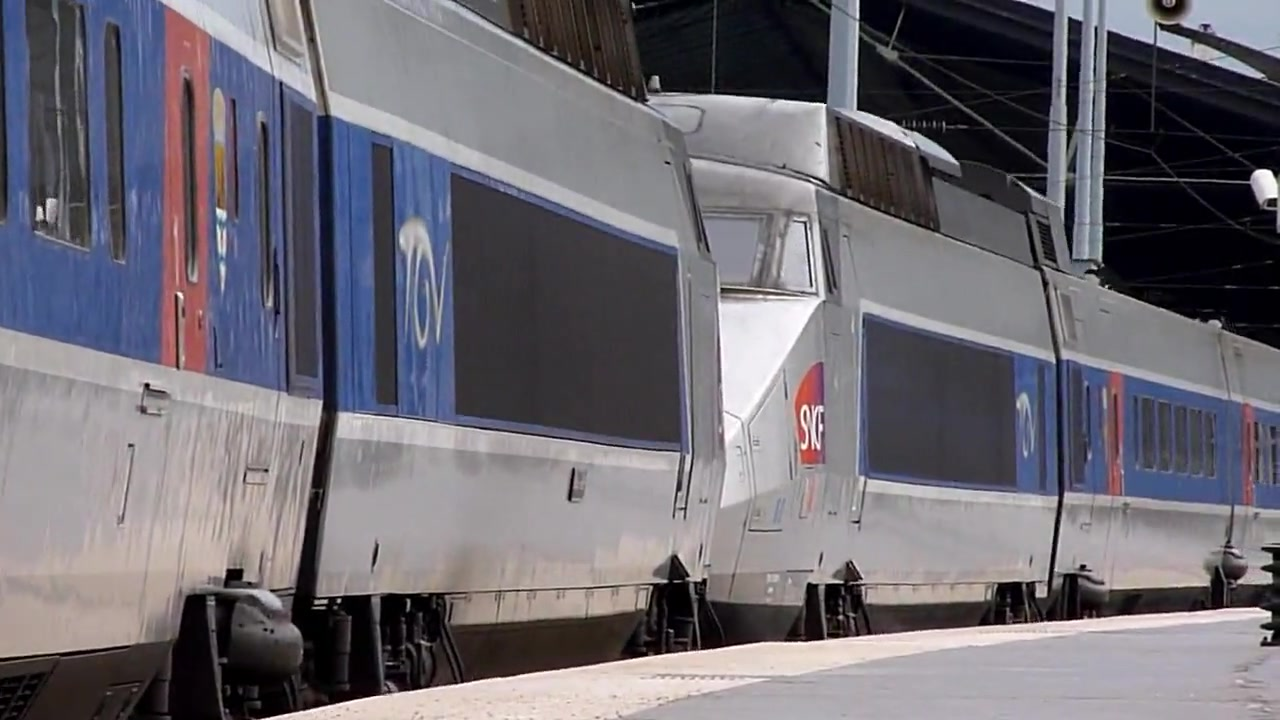train: (1, 1, 1280, 698)
